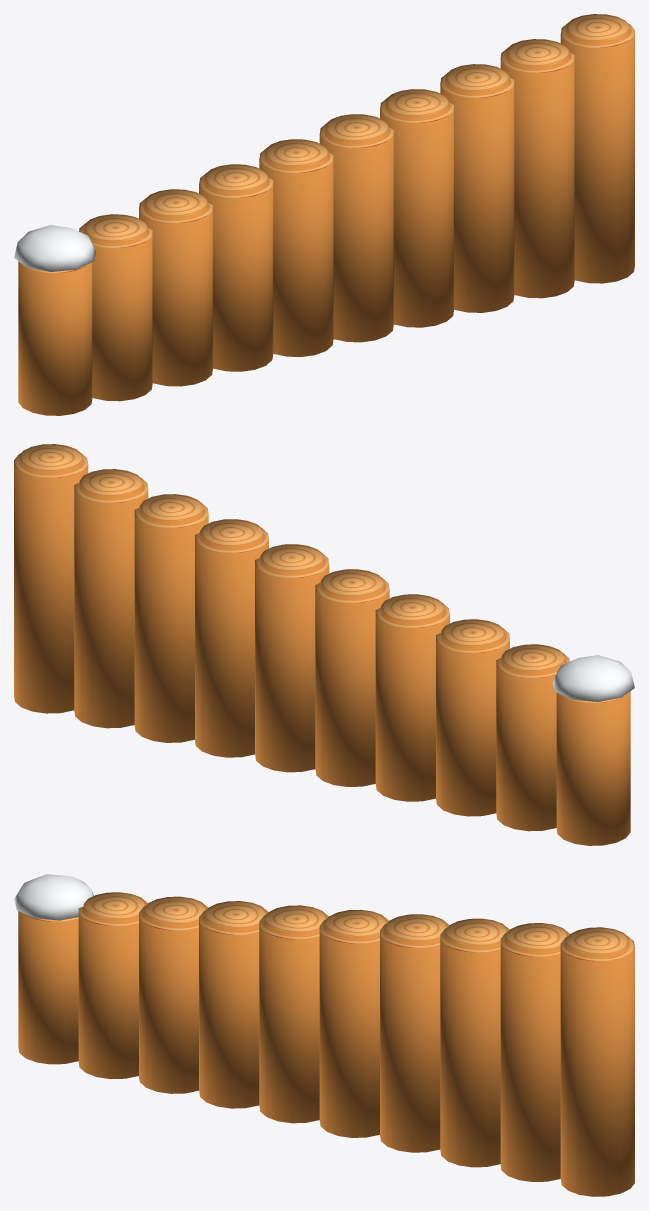
File: LogWall_Straight.glb
3 views of the same model, one above another, from view 1: azimuth 30°, elevation 25°; view 2: azimuth 150°, elevation 25°; view 3: azimuth 330°, elevation 25° (orthographic).
Visible parts, largest first — view 1: LogWall_Straight, LogWall_Straight_Snow1; view 2: LogWall_Straight, LogWall_Straight_Snow1; view 3: LogWall_Straight, LogWall_Straight_Snow1.
Boxes of the visible parts, x1,y1,x2,y2 form: LogWall_Straight: [18, 14, 634, 415]; LogWall_Straight_Snow1: [14, 225, 95, 271]; LogWall_Straight: [14, 444, 630, 845]; LogWall_Straight_Snow1: [553, 655, 634, 701]; LogWall_Straight: [18, 892, 634, 1196]; LogWall_Straight_Snow1: [14, 874, 93, 920].
Bounding box in the file's own units: 2.16 × 0.815 × 0.26.
Materials: 3 (1 with a texture image).
